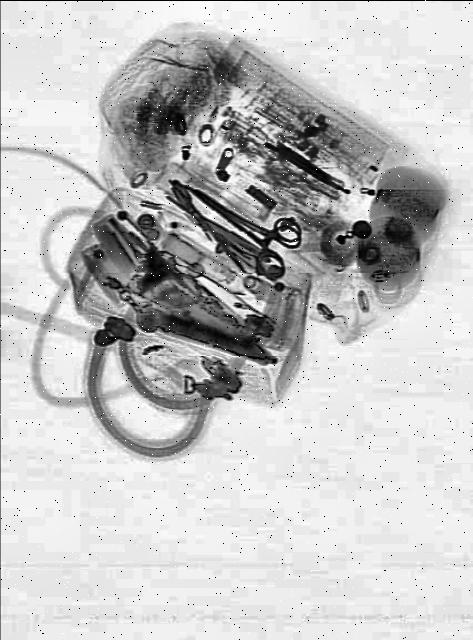Scissors: (174, 160, 306, 290)
